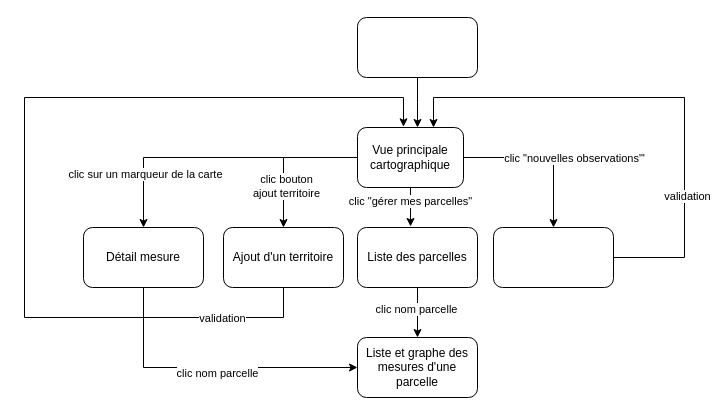
Some shapes in this 727 by 415 pixel diagram are drawn without their labels. Here are the shapes that lost their labels. From the top down, the centre of each, then its label:
At (x=417, y=47): "Page de login".
At (x=553, y=257): "Nouvelles observations".
